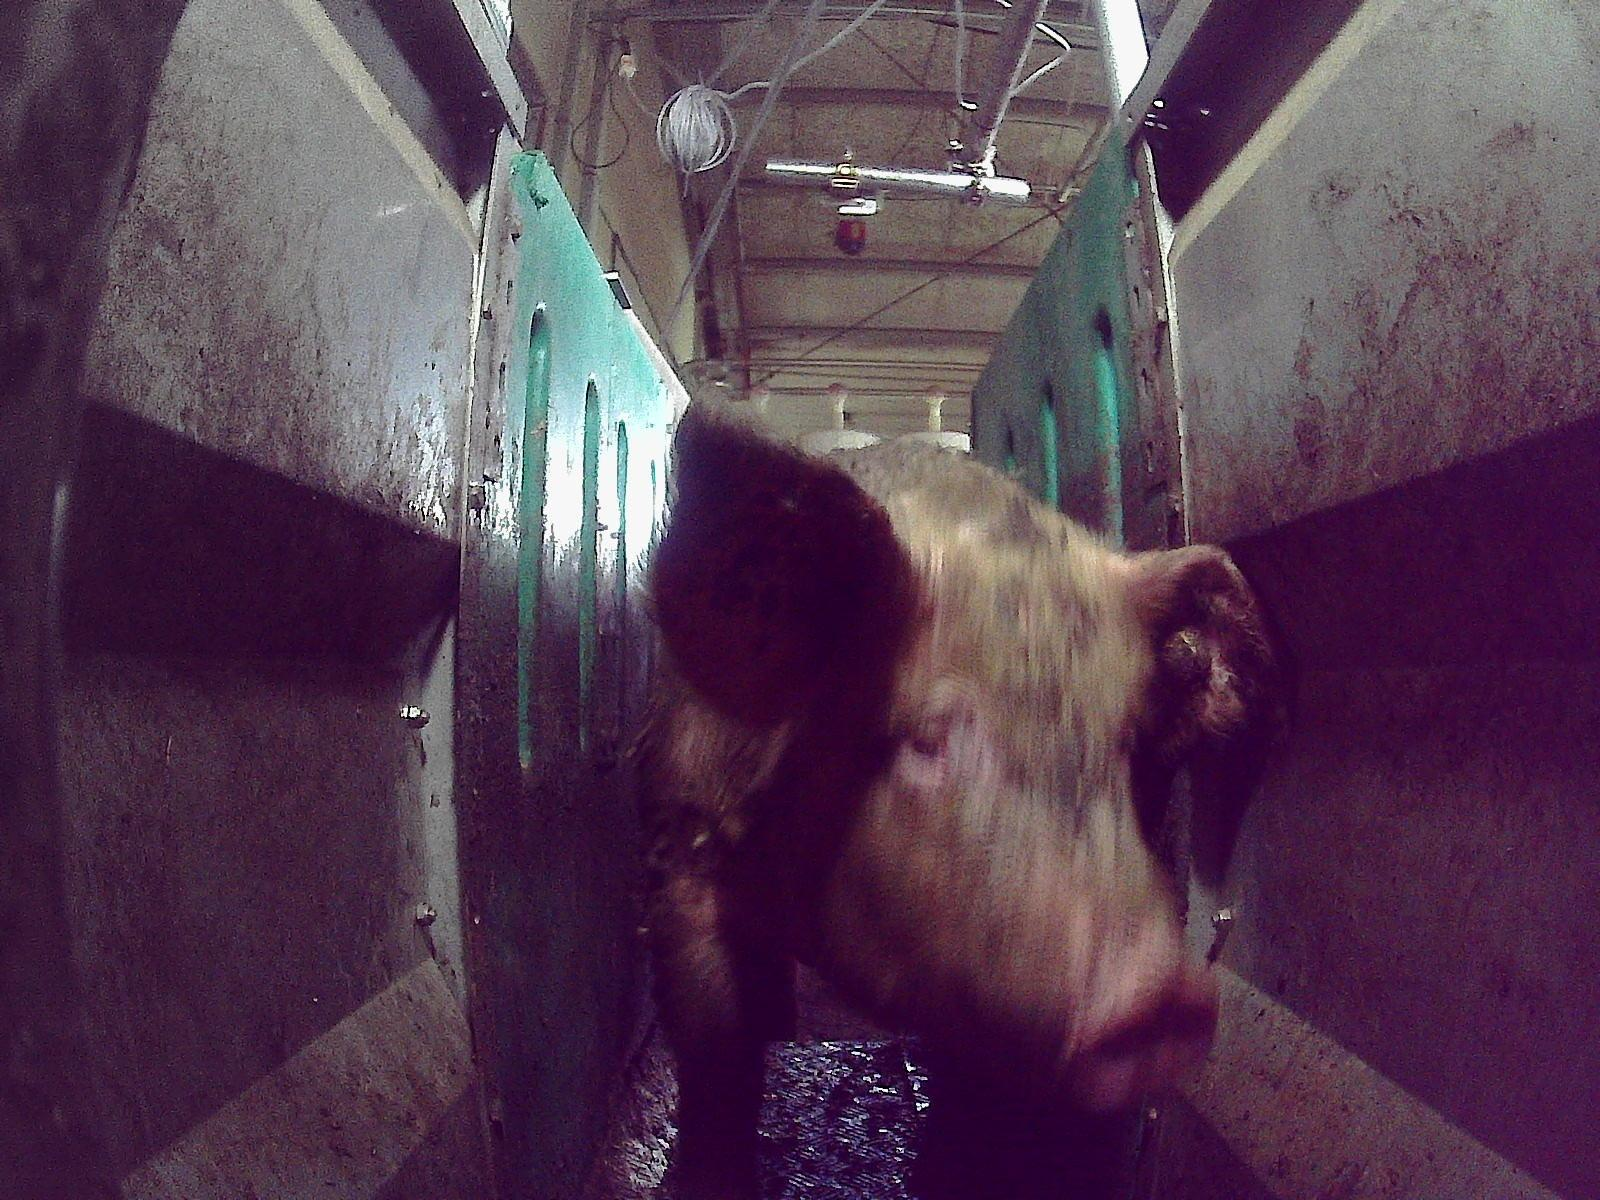Face: (800, 528, 1217, 1117)
